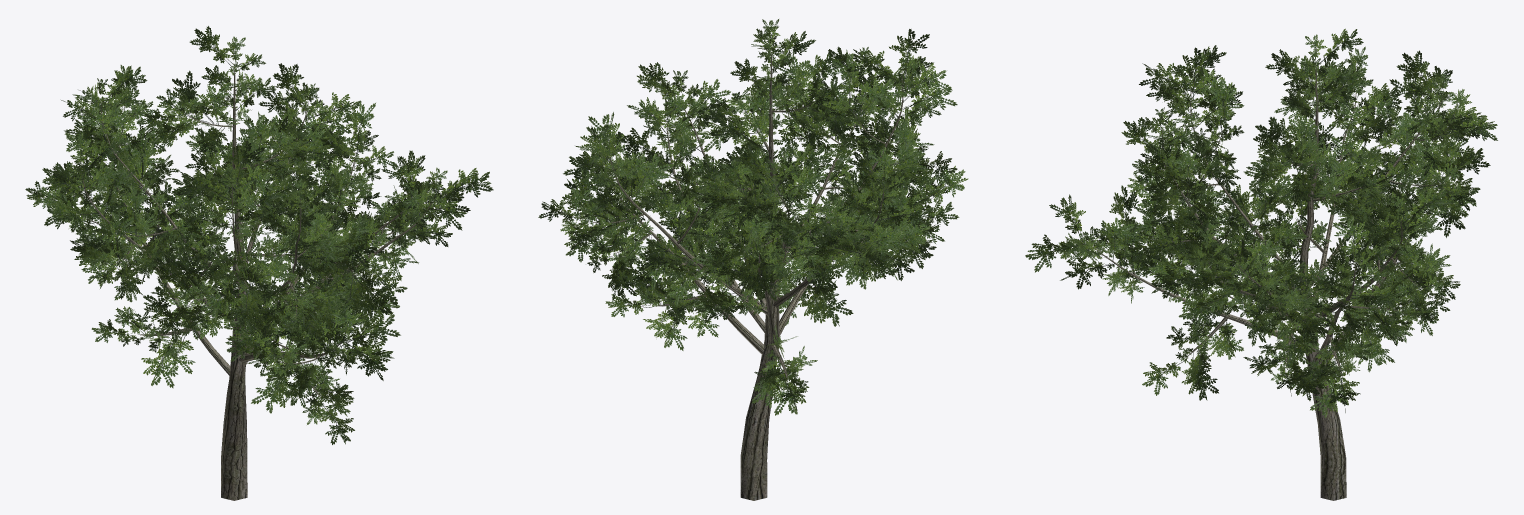
The model's file is tree-eztree-ash.glb.
3 views of the same model, side by side, from view 1: azimuth 30°, elevation 25°; view 2: azimuth 150°, elevation 25°; view 3: azimuth 270°, elevation 25° (orthographic). The views are drawn at different scales.
Visible parts, largest first — view 1: leaves, branches; view 2: leaves, branches; view 3: leaves, branches.
Part boxes in pixels (x1,y1,x2,y2): leaves: [25, 26, 493, 444]; branches: [81, 69, 433, 500]; leaves: [538, 19, 968, 415]; branches: [589, 51, 904, 500]; leaves: [1025, 28, 1497, 417]; branches: [1092, 66, 1451, 500].
Bounding box in the file's own units: 21.73 × 25 × 23.65.
2 materials, 2 textured.
